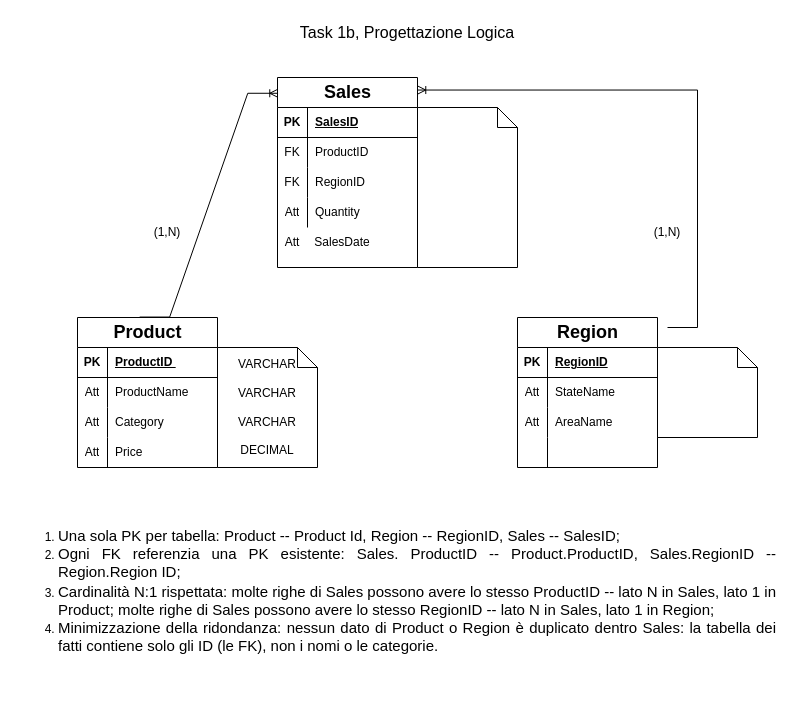
This 794x709 diagram has some shape labels left out. Here are the shapes that lost their labels. From the top down, the centre of each, then its label:
At pixel 467 187: "INT VARCHAR VARCHAR INT DATE".
At pixel 707 392: "VARCHAR VARCHAR VARCHAR".
